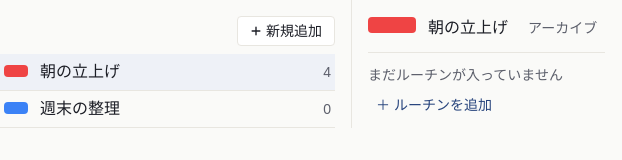
Test case: BundlesBoard（画面定義書05: 左ペインの一覧・作成・アーカイブ・削除／右ペインのヘッダ） › 左ペインの行をクリックするとそのバンドルが右ペインのヘッダに出る
Click the button "週末の整理" at coordinates (80, 109), box [40,97,120,121]
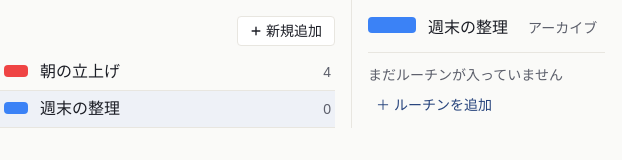
Now the button named "色を変更（現在: 青）" is shown, box [368,16,416,40]
